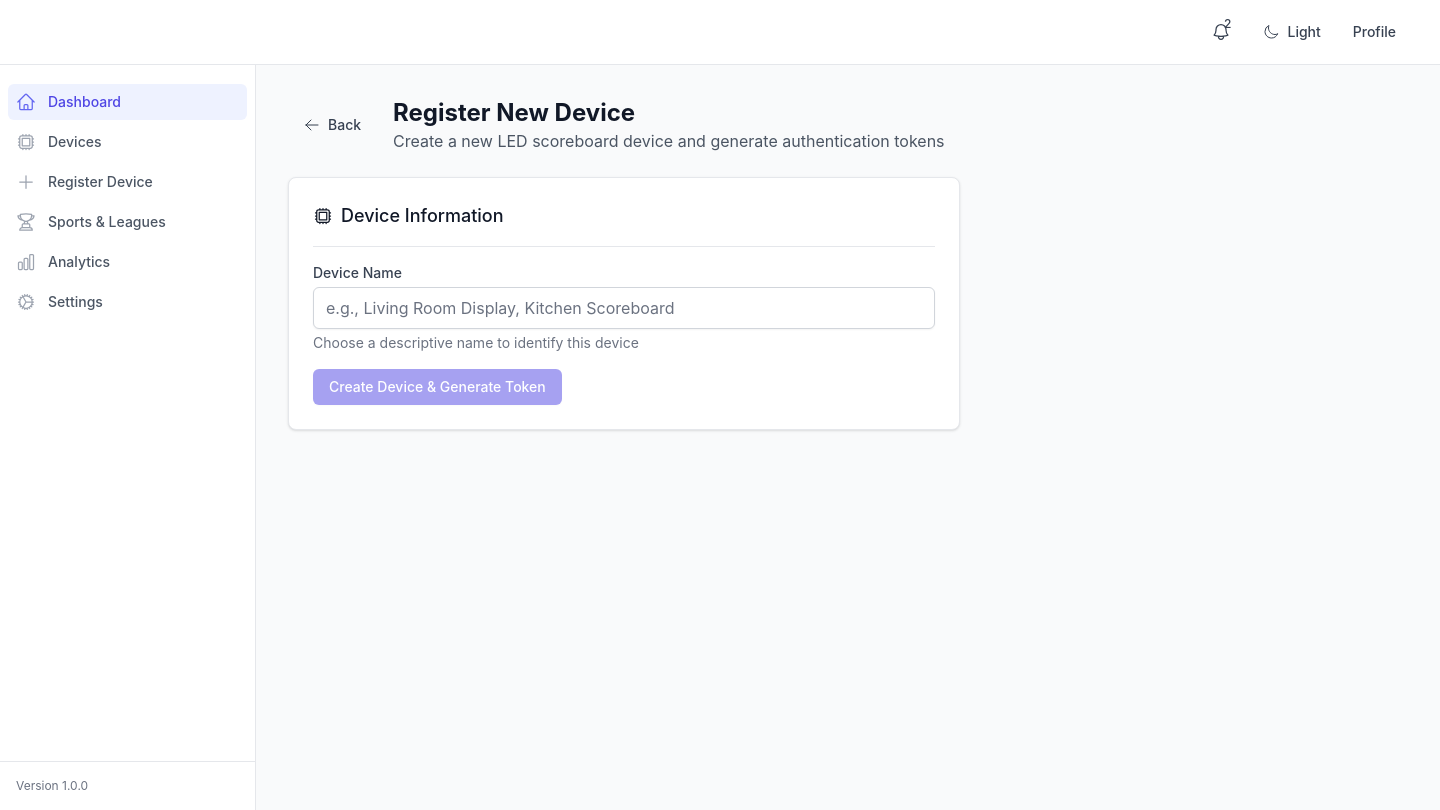
RegisterDevice page › requires authentication before creating device
This screenshot has width=1440, height=810.
Type "Lobby Display" into the field labelled "Device Name" at (624, 308), box [313, 287, 935, 329]
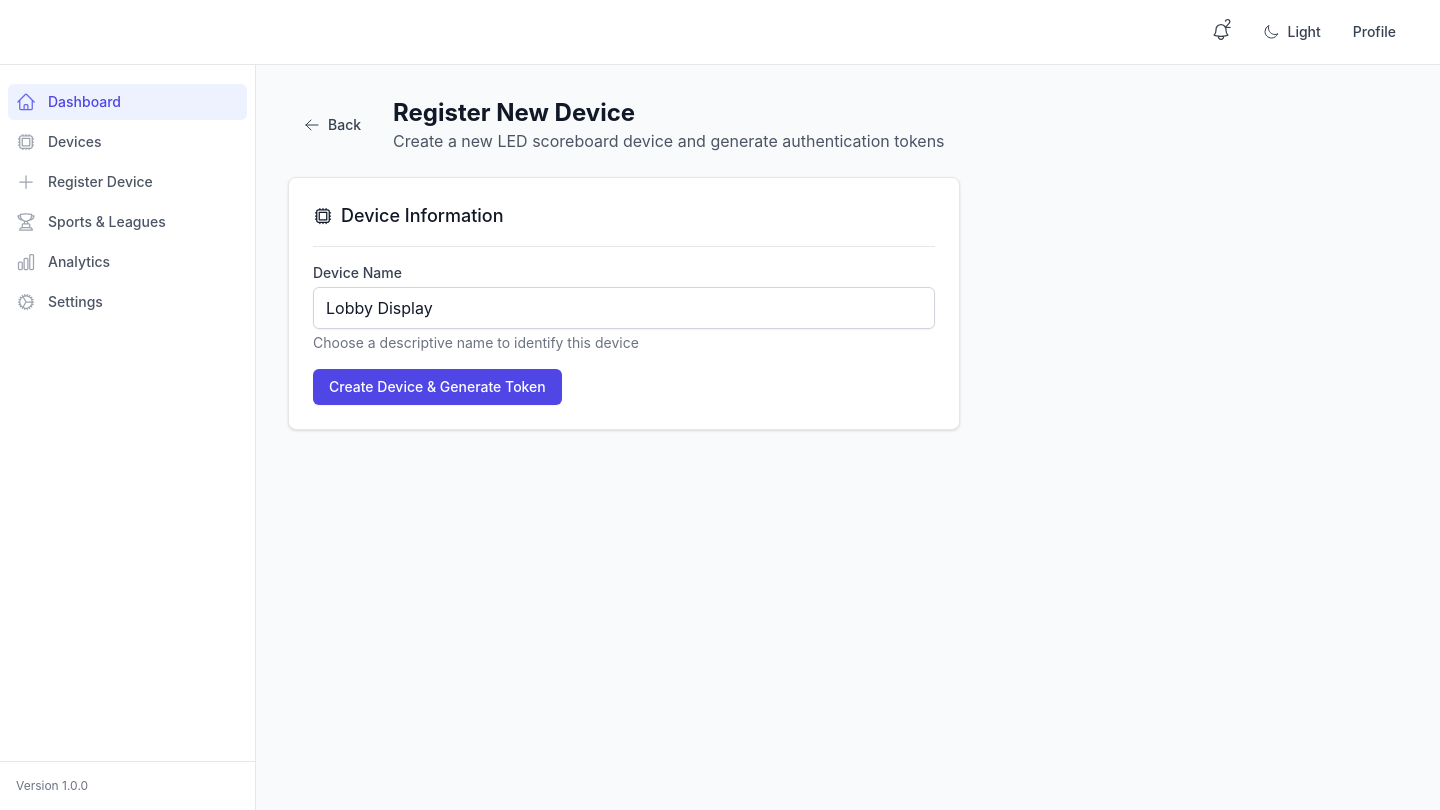
Click the button "Create Device & Generate Token" at (437, 387), box [313, 369, 562, 405]
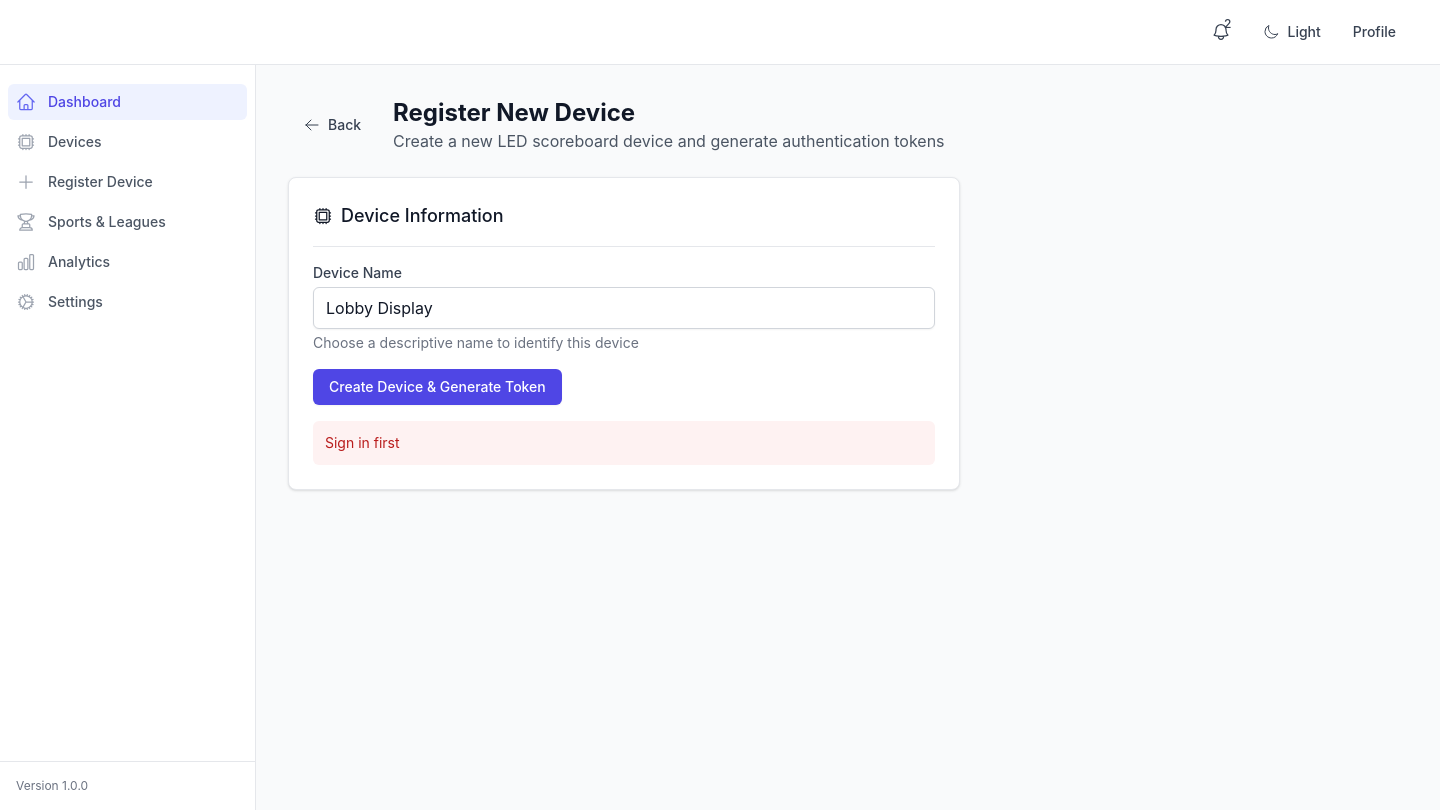
Check: the text "Sign in first" is shown, box [313, 421, 935, 465]
